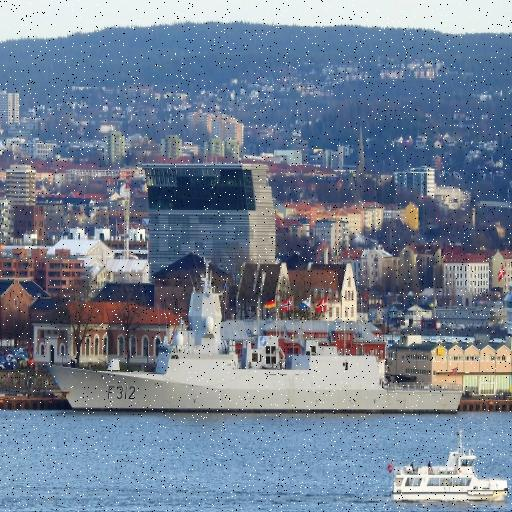Fragata: (42, 252, 469, 416)
